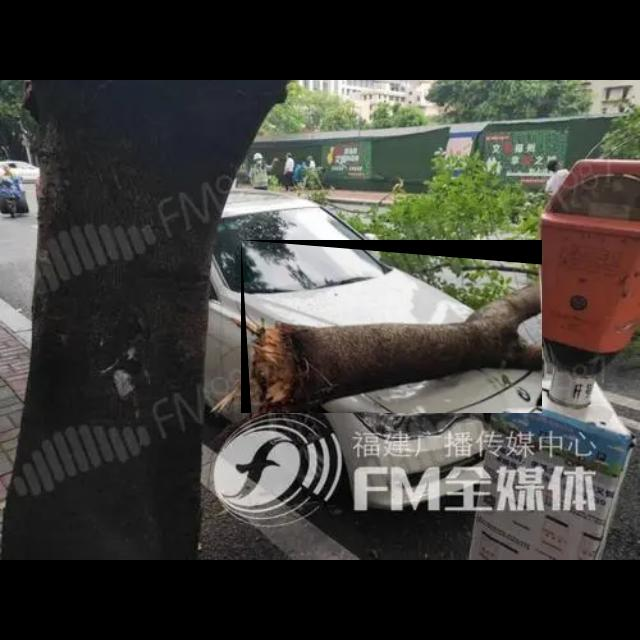Fallen Tree: (241, 240, 543, 414)
